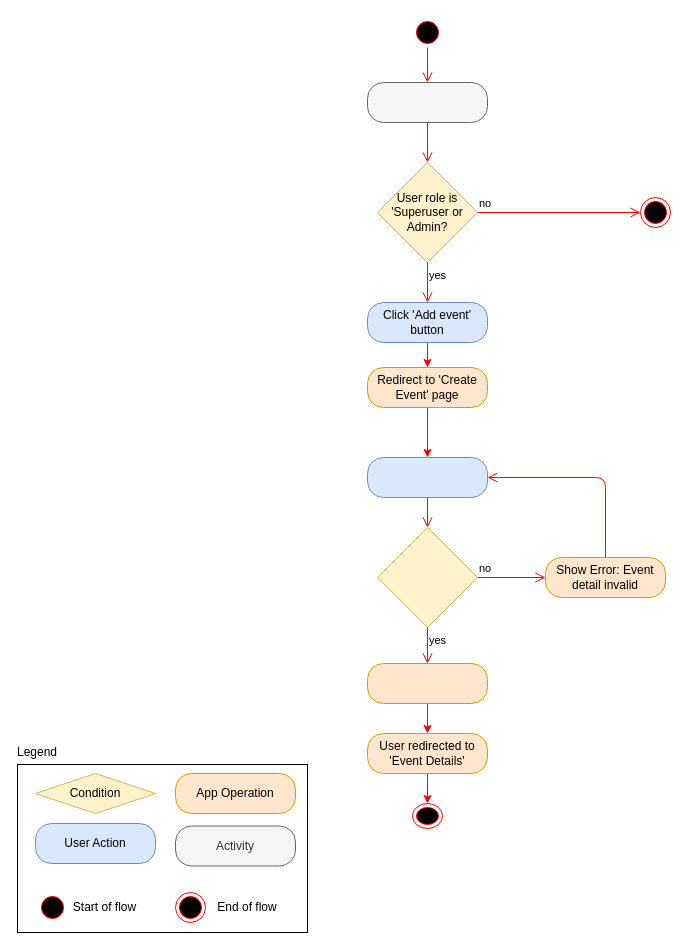
Image size: 688x950. Some labels were removed from this diagram. Each missing label, with the box of its shape:
Enter event details: (366, 456, 488, 498)
Event details valid?: (376, 526, 478, 628)
Go to: 'View Upcoming Events': (366, 82, 488, 122)
Show notification: Event added: (366, 662, 488, 704)
